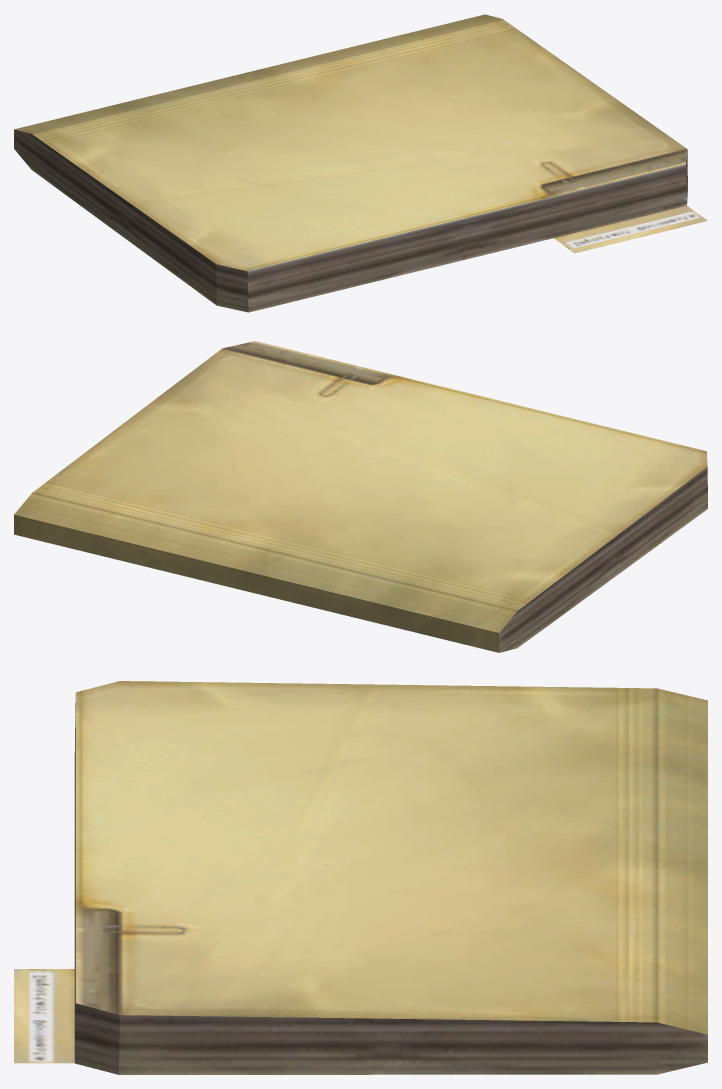
The model's file is folder01.fbx.
3 renders of one model, top to bottom at view 1: azimuth 30°, elevation 25°; view 2: azimuth 150°, elevation 25°; view 3: azimuth 270°, elevation 25°, orthographic. The views are drawn at different scales.
Parts seen in each view (by area): view 1: mesh_0; view 2: mesh_0; view 3: mesh_0.
Boxes of the visible parts, box(x1,y1,x2,y2) form: mesh_0: box(14, 14, 707, 312); mesh_0: box(14, 341, 707, 652); mesh_0: box(14, 681, 707, 1074).
Size of the model in its own units: 46.62 by 3.9 by 40.93.
1 material, 1 textured.
